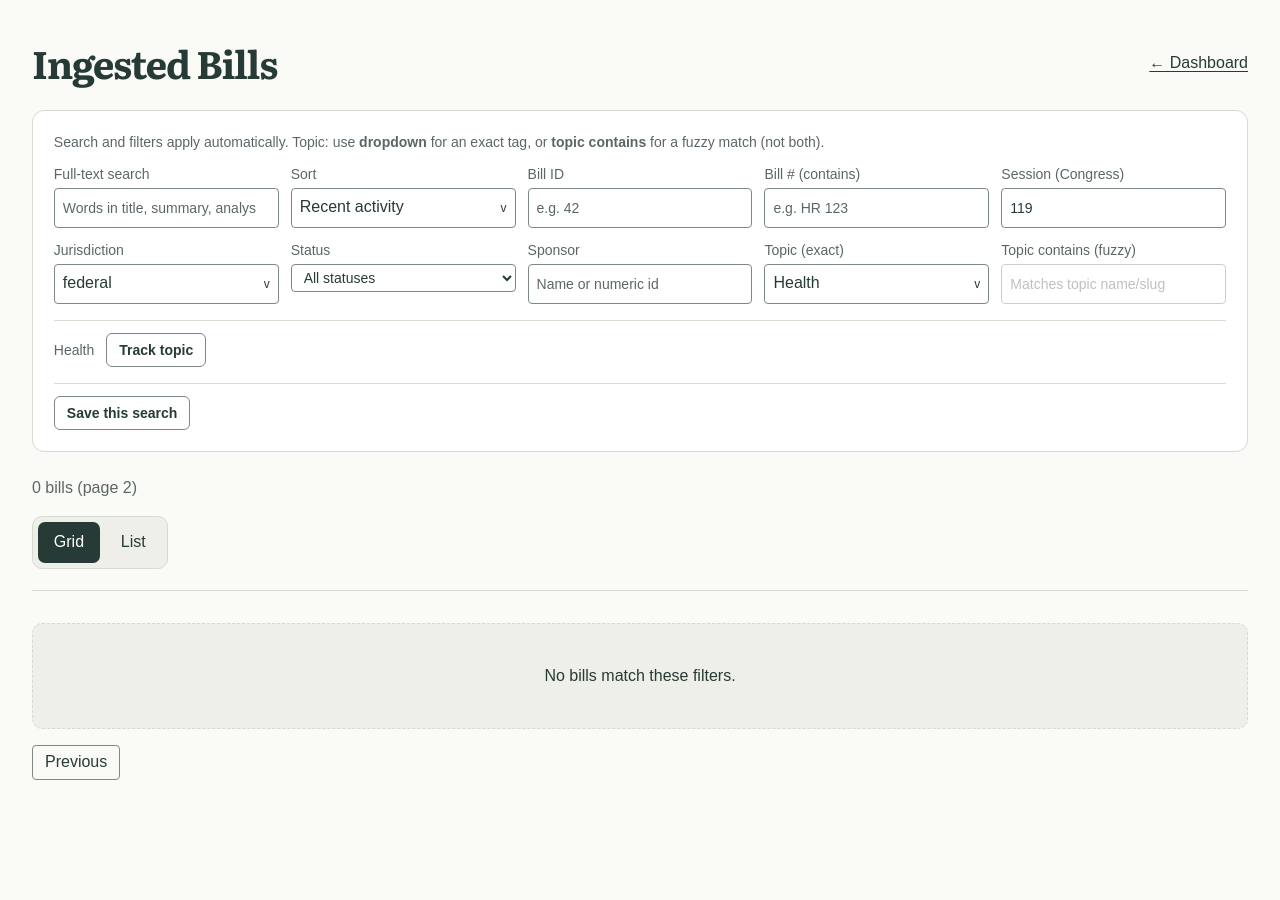
Test: BillsPage › names and saves the current search without a browser prompt
Step 1. Click the button "Save this search" → (122, 413), box [54, 396, 190, 430]
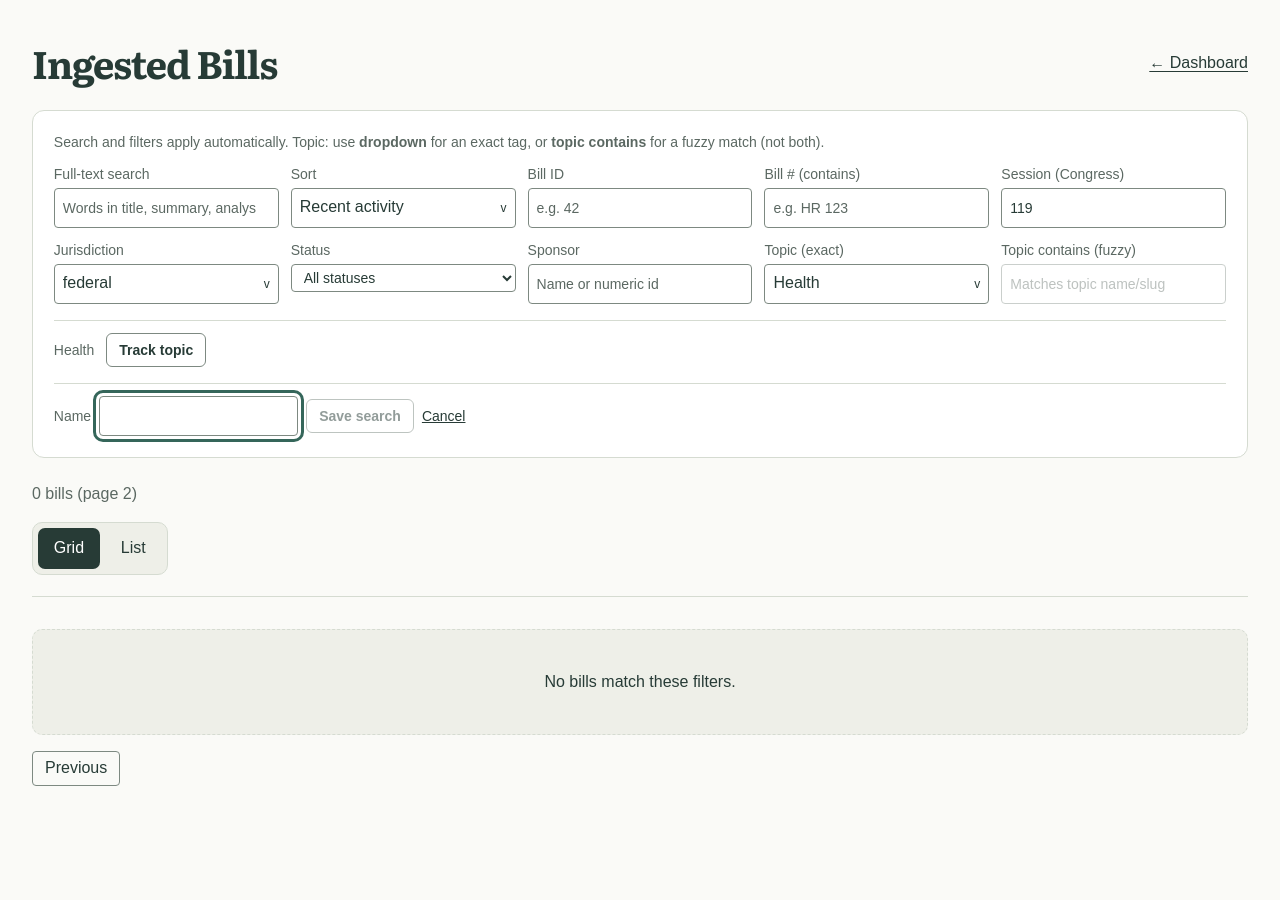
Step 2. Type "Health policy" into the field named "Saved search name" → (199, 416), box [99, 396, 298, 436]
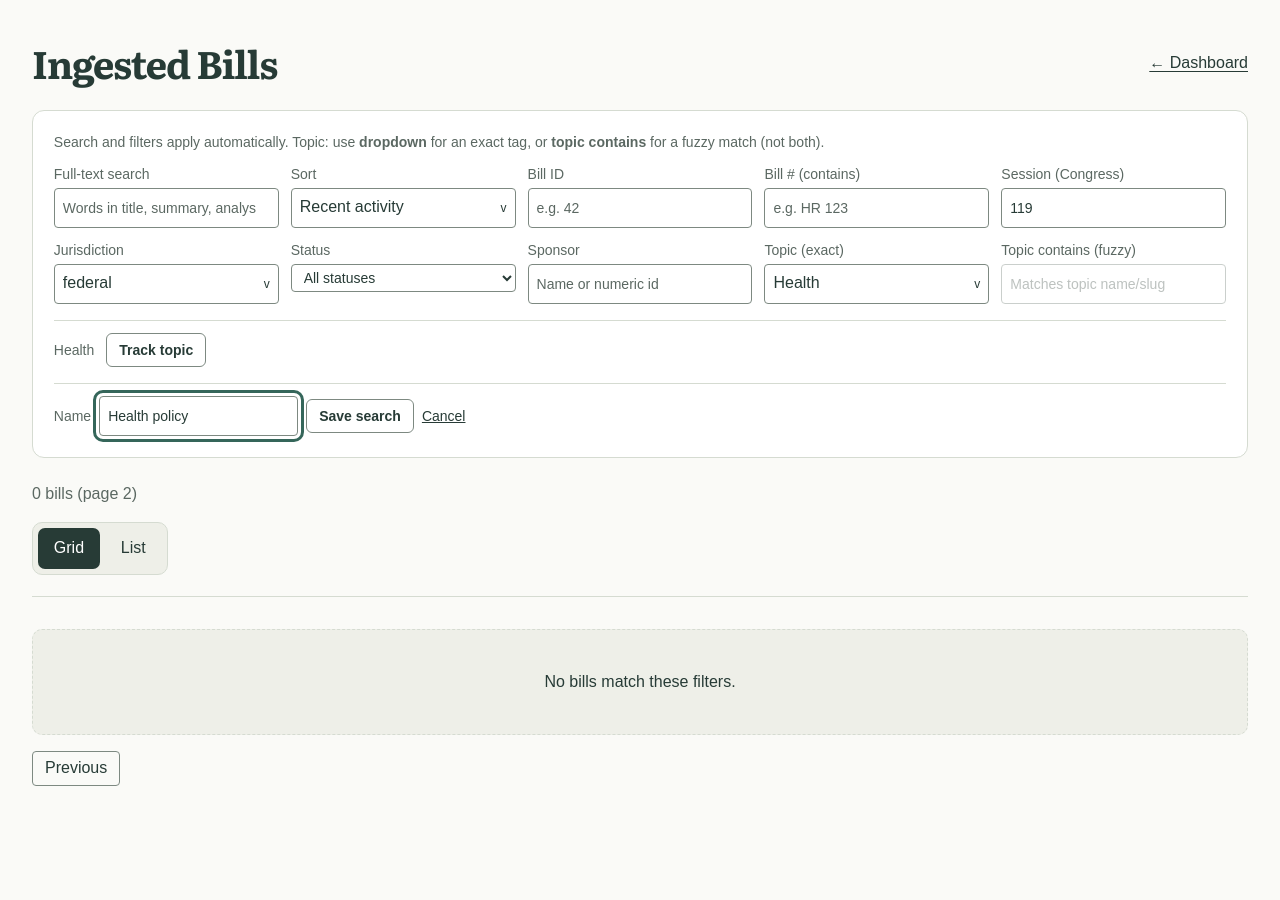
Step 3. Click the button "Save search" → (360, 416), box [306, 399, 414, 433]
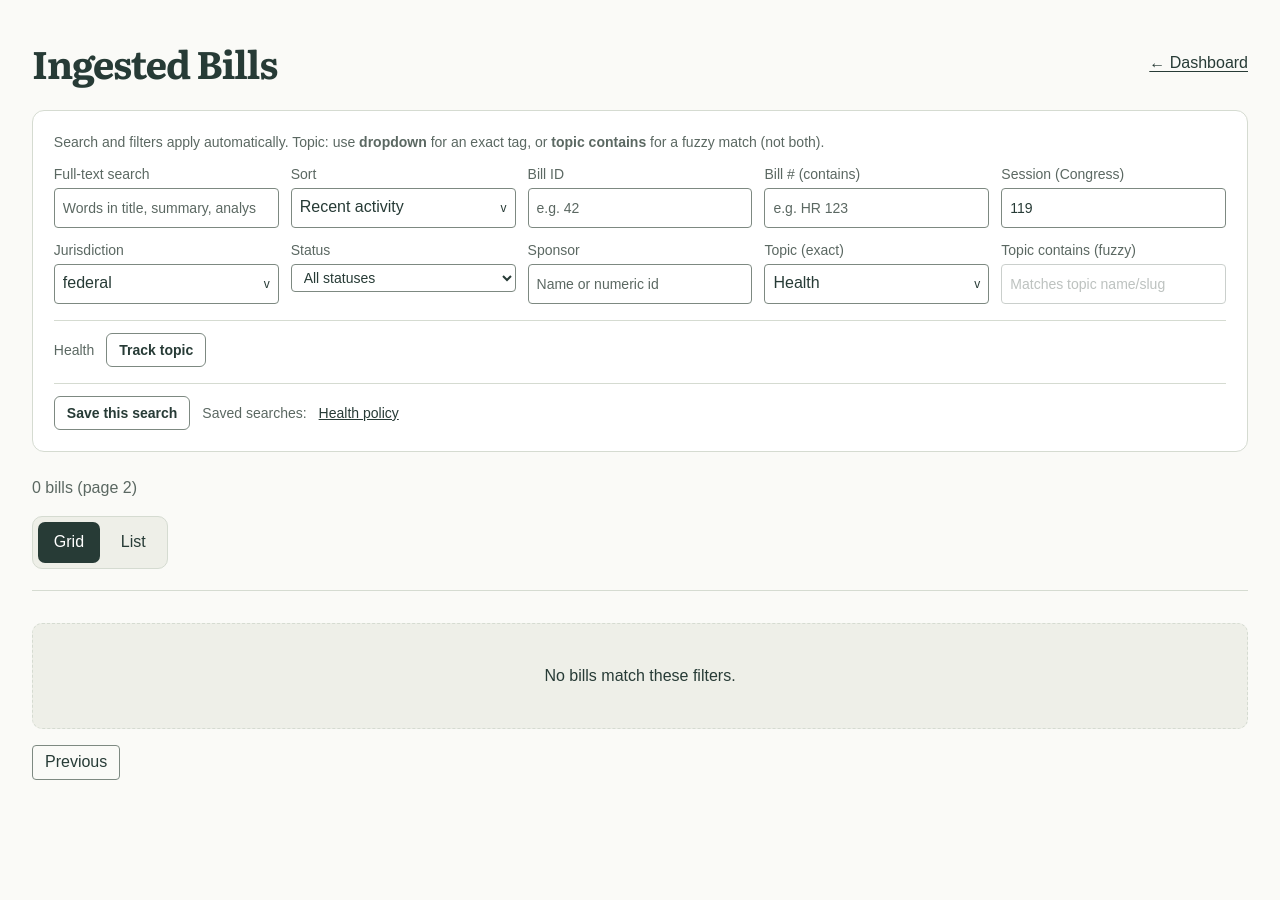
Now the button "Health policy" is shown, box [319, 403, 399, 423]
Now the field labelled "Saved search name" is gone
